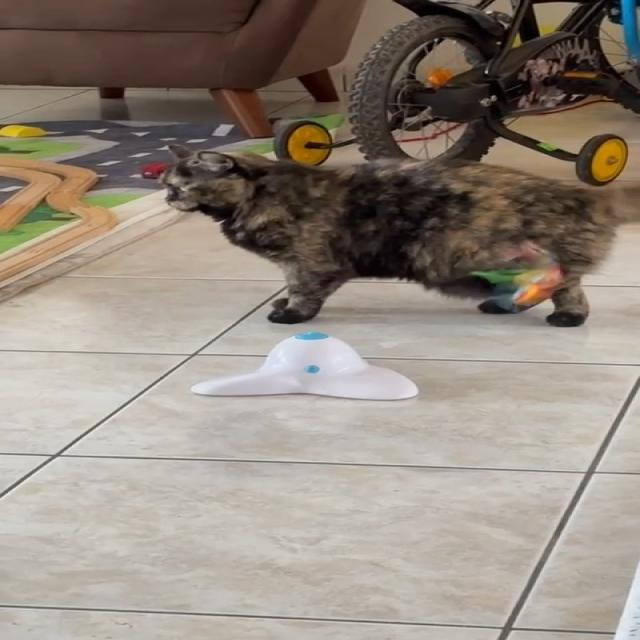authorized: (156, 142, 639, 328)
